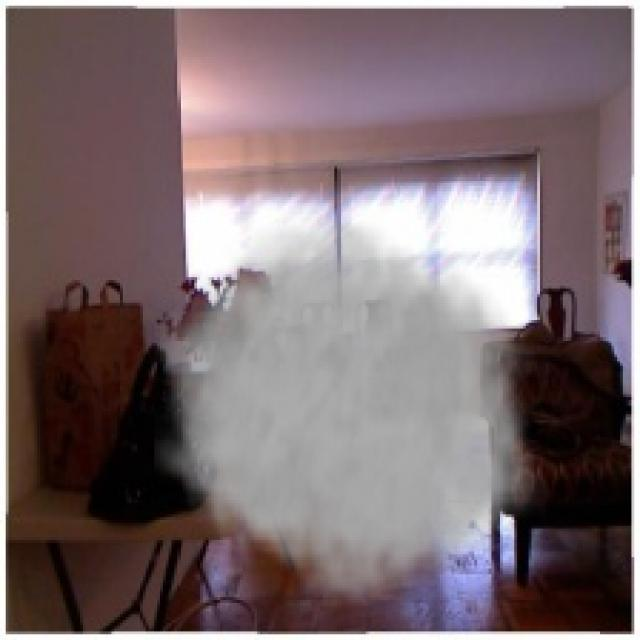smoke: (154, 200, 552, 614)
